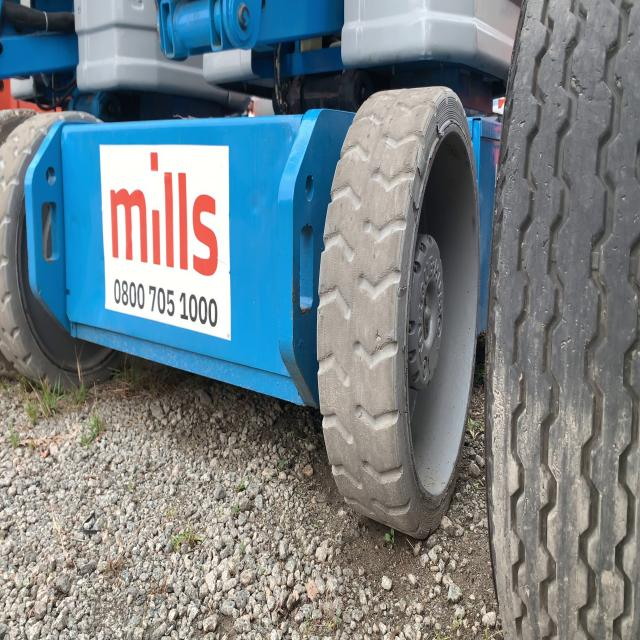Adesivos: (97, 141, 232, 343)
